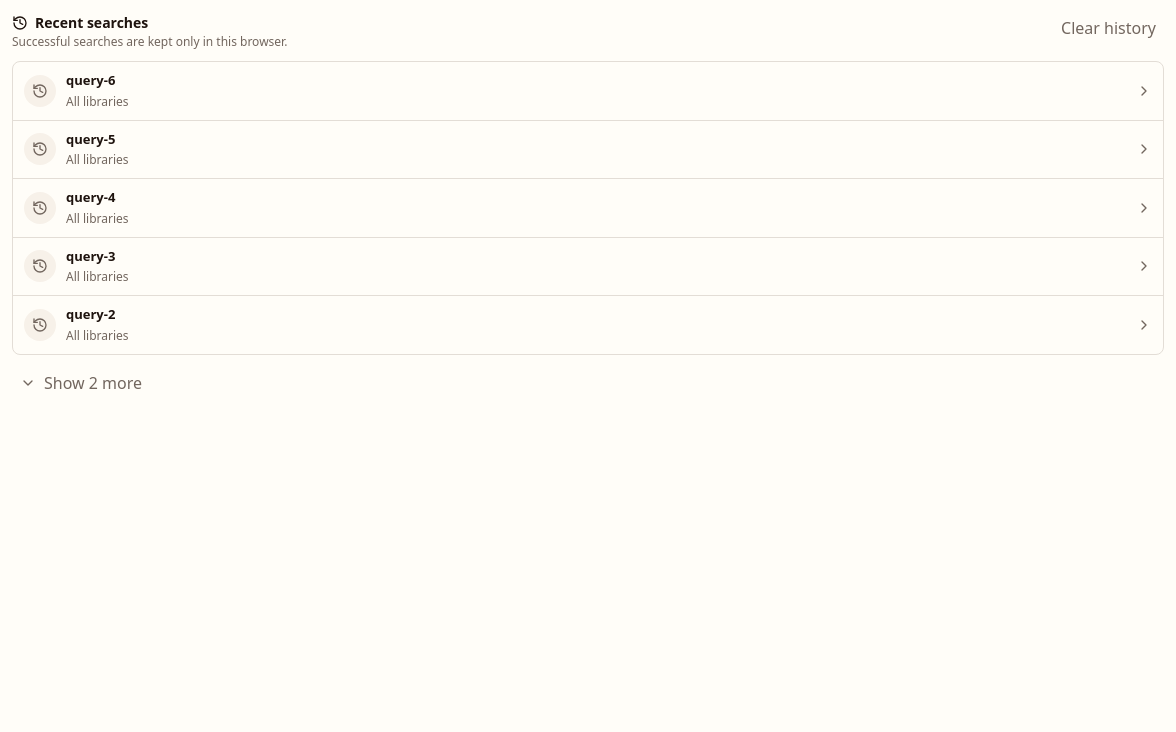
Scenario: RecentSearchesPanel › shows five searches first and progressively reveals the rest
The width and height of the screenshot is (1176, 732).
Click the button "Show 2 more": coordinates (81, 382) [12,364,150,400]
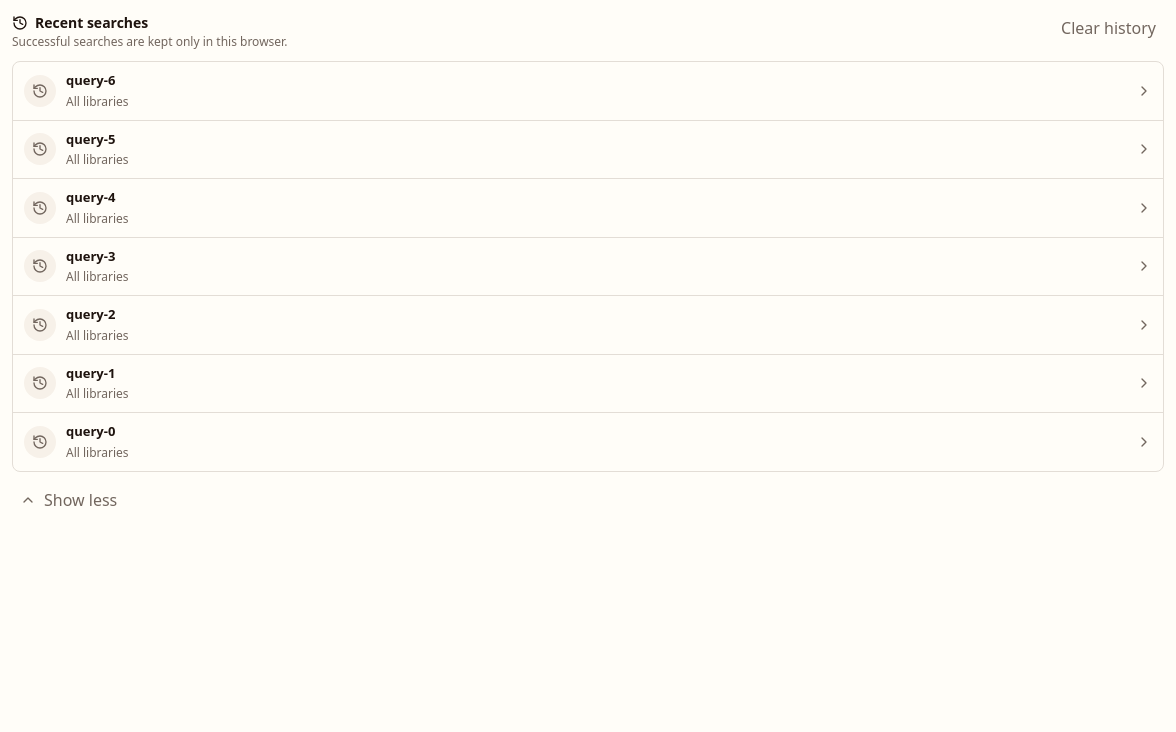
Expected: the button "Show less" is shown, [12,482,125,518]
Expected: the button "Show less" is expanded, [12,482,125,518]
